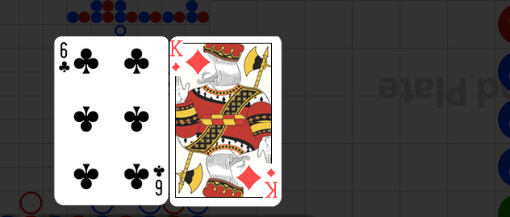6C: (151, 163, 165, 197)
KD: (265, 167, 280, 200)
